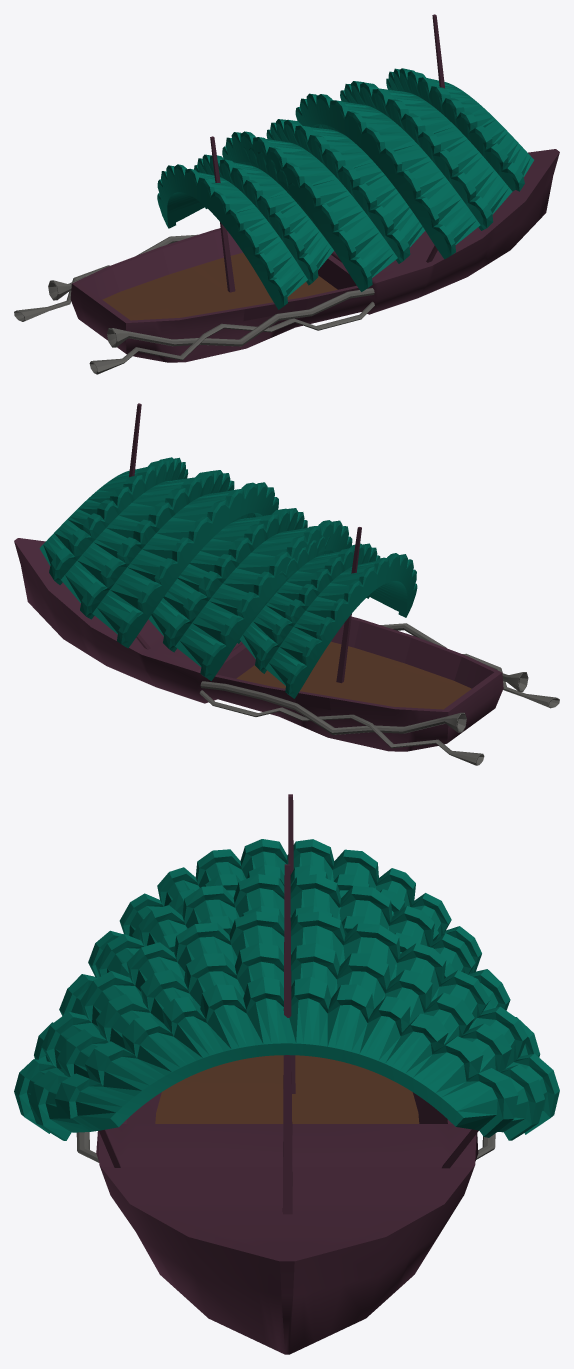
Rendered from FoesFinal.fbx.
3 renders of one model, top to bottom at view 1: azimuth 30°, elevation 25°; view 2: azimuth 150°, elevation 25°; view 3: azimuth 270°, elevation 25°, orthographic. The views are drawn at different scales.
Visible parts, largest first — view 1: polySurface8, polySurface7, polySurface6, polySurface5, polySurface4, polySurface1, polySurface2, polySurface3; view 2: polySurface8, polySurface7, polySurface6, polySurface5, polySurface2, polySurface3, polySurface4, polySurface1; view 3: polySurface8, polySurface7, polySurface6, polySurface5.
Part boxes in pixels (x1,y1,x2,y2): polySurface8: (70, 14, 559, 362); polySurface7: (295, 68, 533, 259); polySurface6: (222, 119, 425, 291); polySurface5: (157, 147, 333, 309); polySurface4: (107, 288, 374, 347); polySurface1: (89, 301, 377, 374); polySurface2: (48, 234, 197, 300); polySurface3: (14, 265, 109, 321); polySurface8: (14, 403, 503, 751); polySurface7: (39, 457, 278, 648); polySurface6: (148, 508, 352, 680); polySurface5: (237, 536, 417, 698); polySurface2: (200, 681, 466, 734); polySurface3: (199, 690, 484, 765); polySurface4: (380, 623, 528, 691); polySurface1: (462, 653, 559, 708); polySurface8: (96, 794, 478, 1354); polySurface7: (14, 911, 559, 1140); polySurface6: (34, 874, 540, 1061); polySurface5: (70, 839, 498, 985).
Size of the model in its own units: 10.58 by 5.14 by 5.66.
